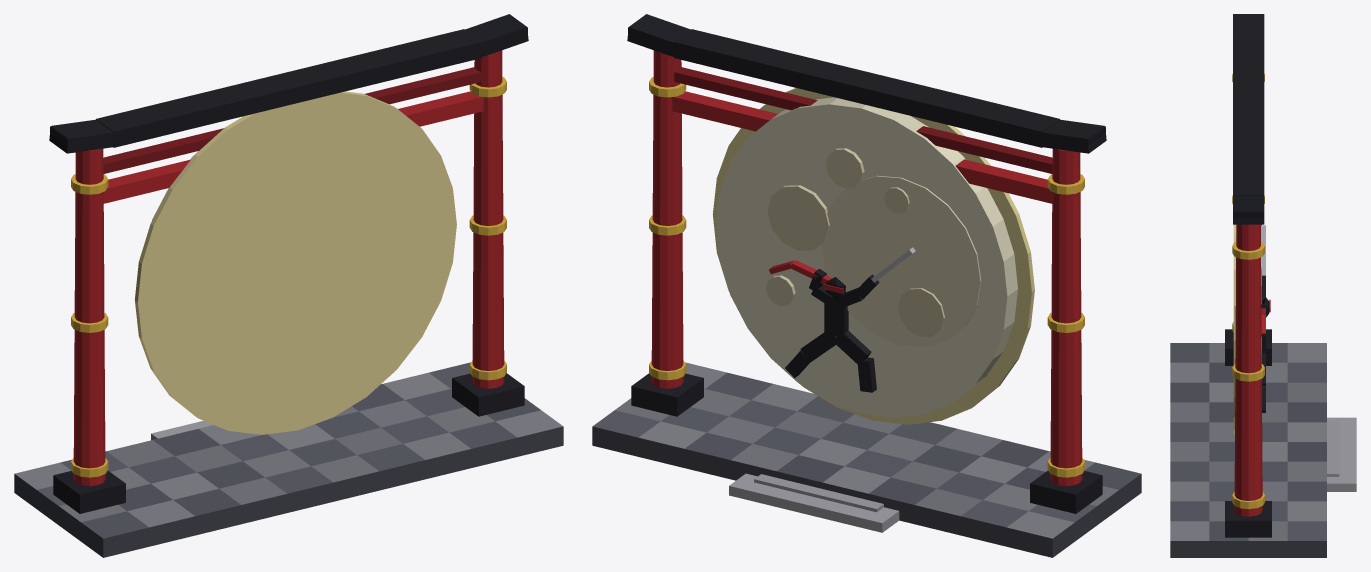
Rendered from Decor_NinjaDojo_Moon.fbx.
3 renders of one model, left to right at view 1: azimuth 30°, elevation 25°; view 2: azimuth 150°, elevation 25°; view 3: azimuth 270°, elevation 25°, orthographic. The views are drawn at different scales.
Parts seen in each view (by area): view 1: Moon_Body; view 2: Moon_Body; view 3: Moon_Body.
Part boxes in pixels (x1,y1,x2,y2): Moon_Body: [14, 14, 563, 557]; Moon_Body: [592, 14, 1141, 557]; Moon_Body: [1170, 14, 1356, 557].
Size of the model in its own units: 30 by 24.4 by 11.9.
